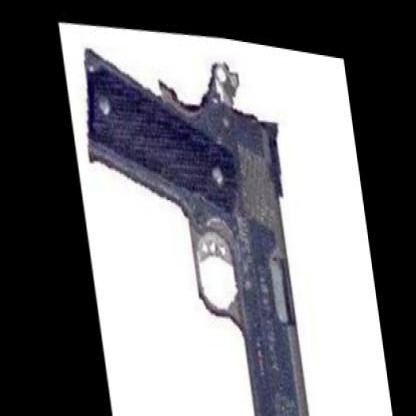pistol: (76, 20, 320, 413)
